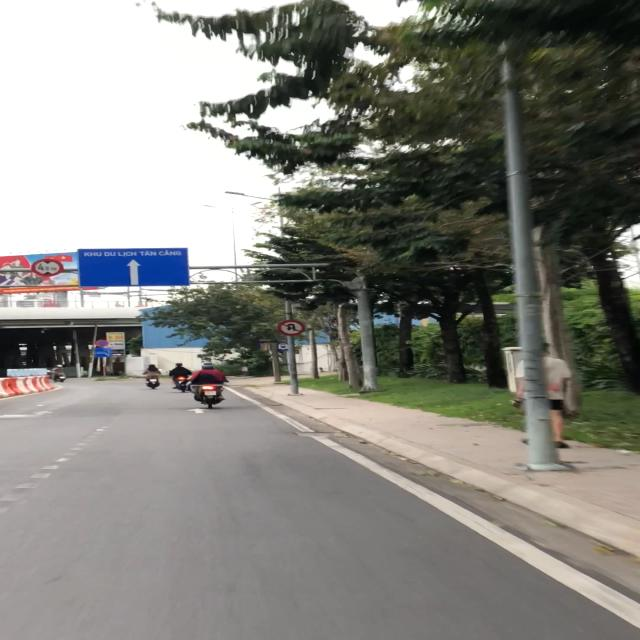Bien bao cam quay dau xe: (276, 319, 309, 336)
Bien bao han che chieu cao: (30, 258, 65, 278)
